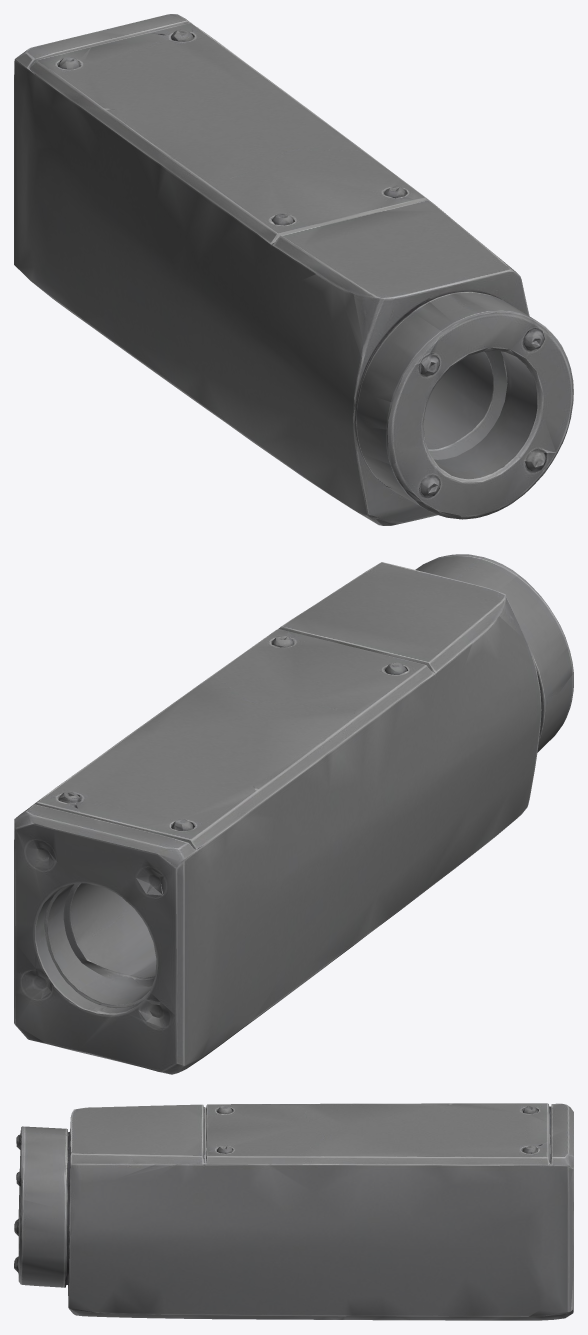
File: shared_flak_tower_compact_option__elevation_cradle.glb
The picture shows the model from 3 angles, top to bottom: view 1: azimuth 30°, elevation 25°; view 2: azimuth 150°, elevation 25°; view 3: azimuth 270°, elevation 25°; orthographic projection. The views are drawn at different scales.
Parts seen in each view (by area): view 1: mesh_node; view 2: mesh_node; view 3: mesh_node.
Boxes of the visible parts, bbox=[...] form: mesh_node: bbox=[14, 14, 573, 525]; mesh_node: bbox=[14, 554, 573, 1074]; mesh_node: bbox=[14, 1103, 573, 1320].
Size of the model in its own units: 0.644 by 0.7644 by 2.32.
1 material, 1 textured.
